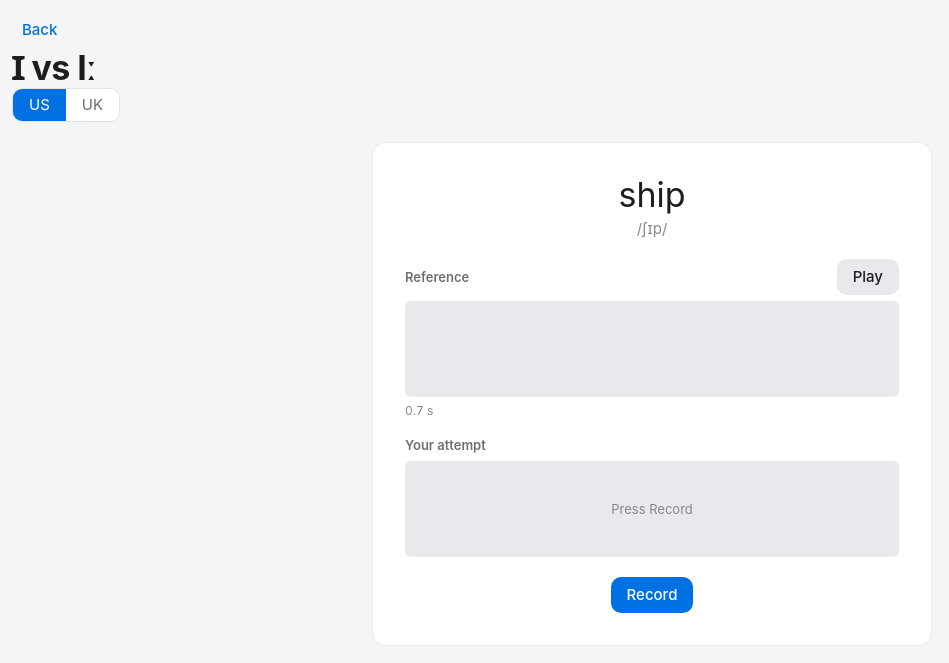
Test: attempt strip › says "Nothing captured" when the recording came back empty
Step 1. Click the button "Record" → (652, 595), box [611, 577, 693, 613]
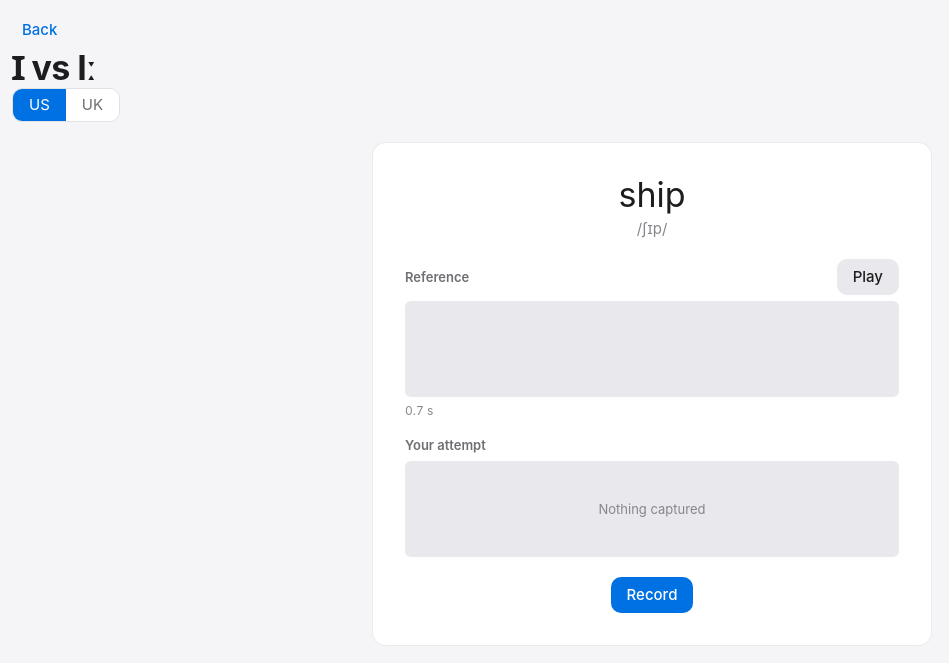
Check: the text with class "spectrogram-strip-placeholder" reads "Nothing captured", box [598, 501, 706, 517]
